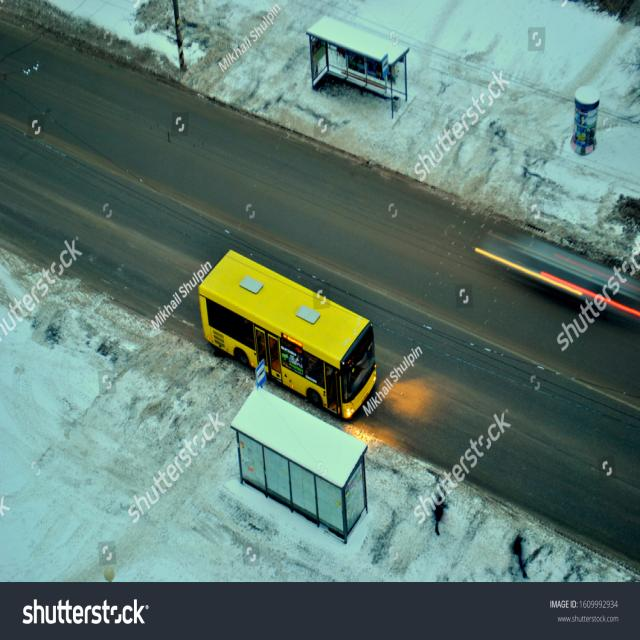bus: (196, 248, 378, 420)
